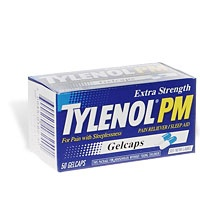grozi_60: (28, 61, 200, 172)
